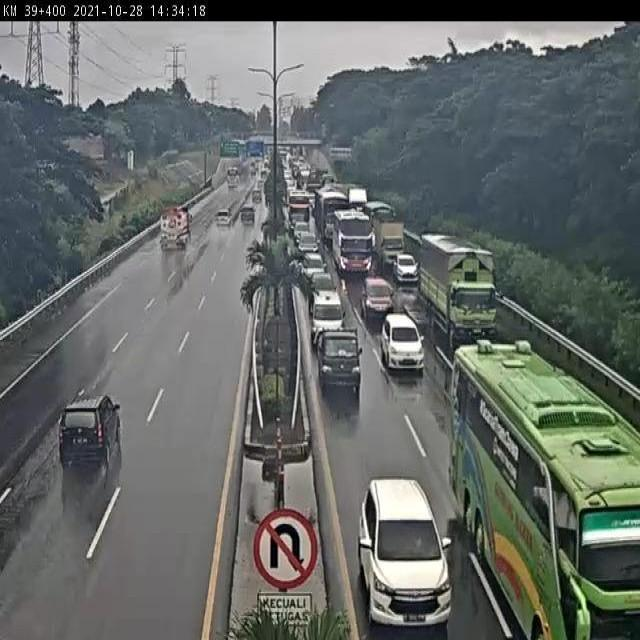big bus: (453, 338, 640, 640), (330, 205, 373, 275), (314, 190, 347, 242), (285, 191, 313, 232)
big truck: (419, 233, 500, 336), (364, 202, 404, 266)
car: (360, 478, 452, 634), (57, 395, 124, 464), (313, 327, 366, 392), (384, 317, 430, 375), (309, 292, 346, 345), (156, 207, 195, 253), (362, 275, 395, 325), (393, 250, 417, 282), (212, 202, 235, 234), (341, 250, 367, 278), (306, 274, 336, 298), (297, 238, 318, 266), (235, 207, 257, 233), (296, 224, 318, 248), (244, 194, 263, 218), (302, 250, 323, 270), (292, 220, 309, 240)
